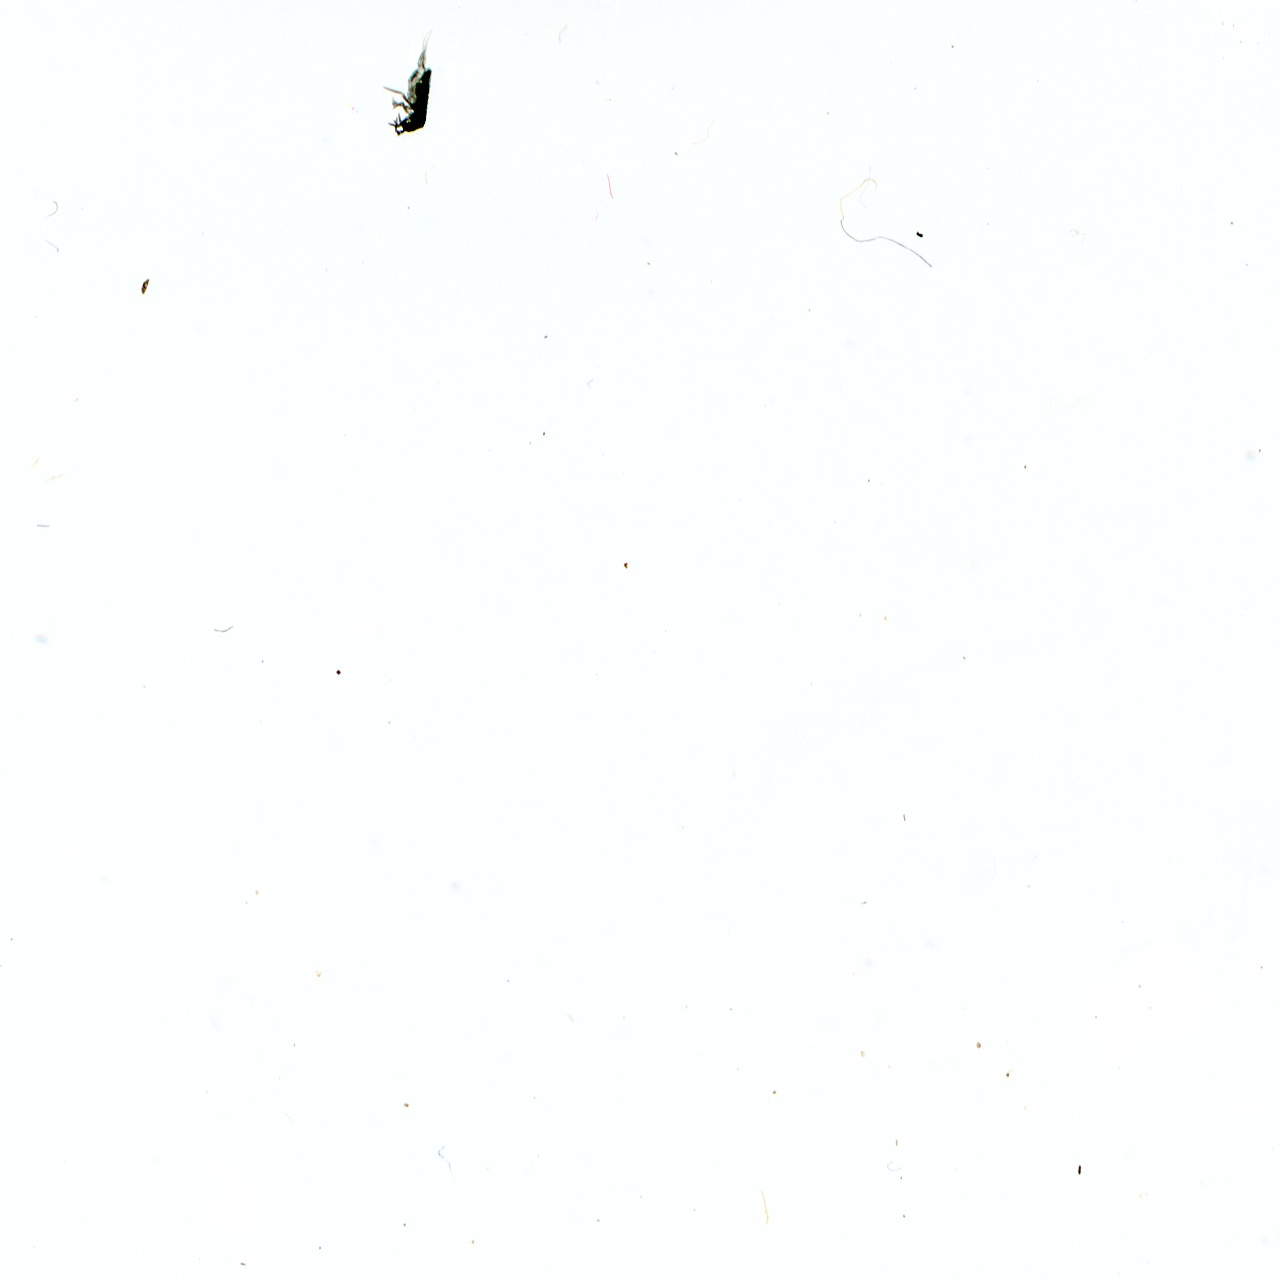arthropod: (378, 14, 443, 149)
